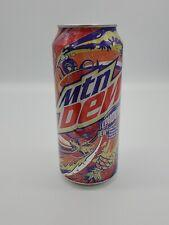metal: (53, 25, 123, 186)
